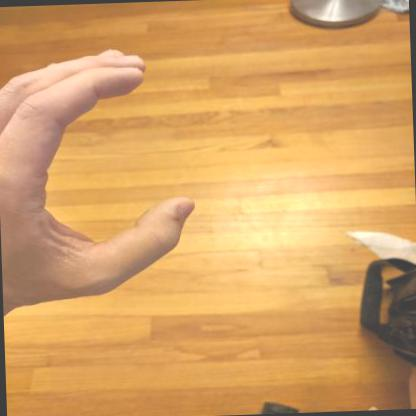C: (0, 49, 194, 314)
